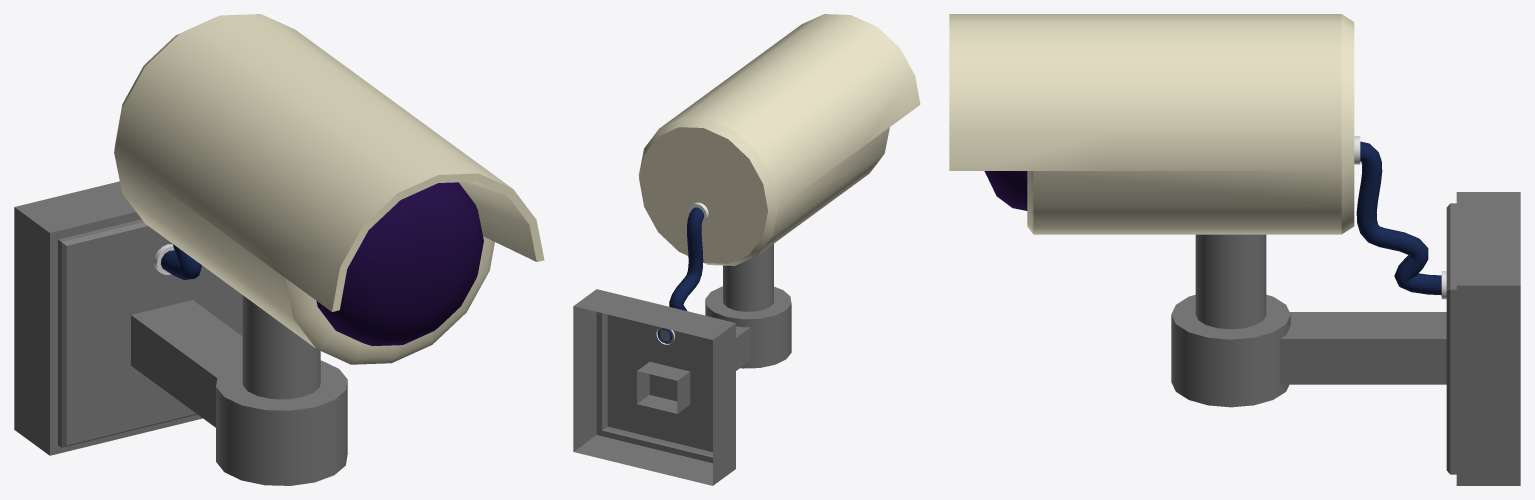
Rendered from SecurityCamera.fbx.
3 views of the same model, side by side, from view 1: azimuth 30°, elevation 25°; view 2: azimuth 150°, elevation 25°; view 3: azimuth 270°, elevation 25° (orthographic). The views are drawn at different scales.
Visible parts, largest first — view 1: Cylinder, Cube, Cylinder.001, BézierCurve; view 2: Cylinder, Cube, Cylinder.001, BézierCurve; view 3: Cylinder, Cylinder.001, Cube, BézierCurve.
Boxes of the visible parts, x1=… form: Cylinder: x1=114, y1=14, x2=544, y2=364; Cube: x1=14, y1=181, x2=242, y2=455; Cylinder.001: x1=131, y1=295, x2=347, y2=485; BézierCurve: x1=161, y1=244, x2=201, y2=279; Cylinder: x1=638, y1=14, x2=920, y2=265; Cube: x1=573, y1=289, x2=735, y2=485; Cylinder.001: x1=637, y1=244, x2=791, y2=413; BézierCurve: x1=657, y1=207, x2=703, y2=343; Cylinder: x1=949, y1=14, x2=1354, y2=234; Cylinder.001: x1=1171, y1=234, x2=1446, y2=407; Cube: x1=1446, y1=192, x2=1520, y2=485; BézierCurve: x1=1356, y1=141, x2=1441, y2=295.
Bounding box in the file's own units: 41.94 × 86.82 × 108.
